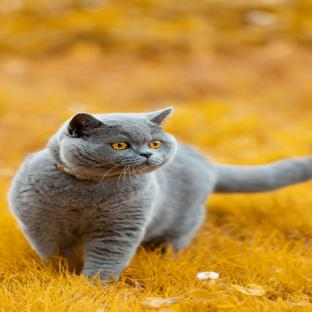Animal: (9, 107, 312, 280)
